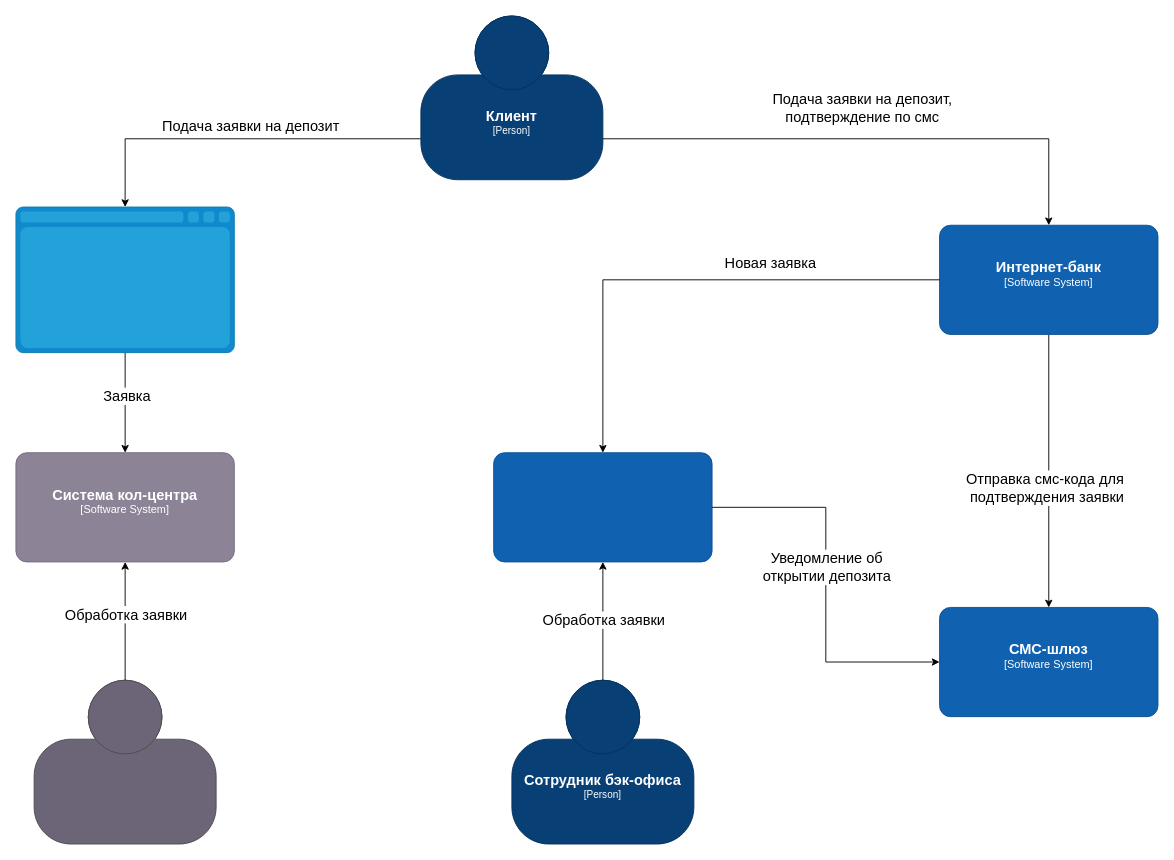
The diagram is 1174 pixels wide and 860 high, and some of its shapes have lost their labels. The centre of each missing label's shape, as x and y in pixels:
АБС [Software System]: [602,507]
Сайт [Container: ]: [124,279]
Сотрудник кол-центра [Person]: [124,761]
